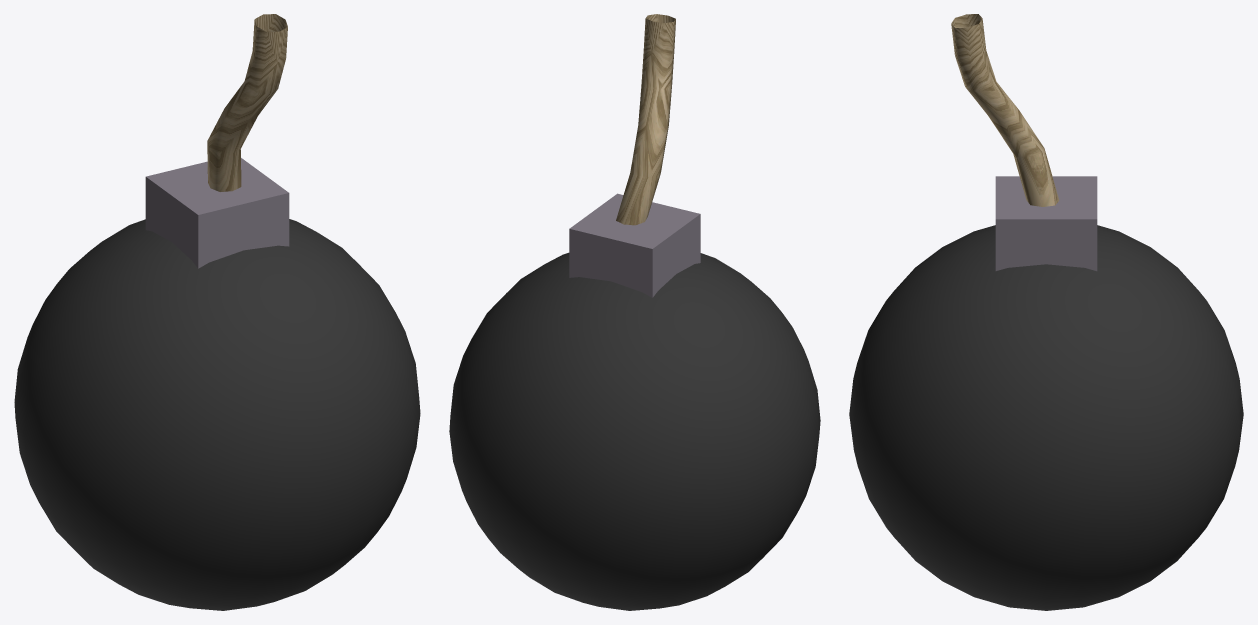
File: BombHandHeld.fbx
The picture shows the model from 3 angles, left to right: view 1: azimuth 30°, elevation 25°; view 2: azimuth 150°, elevation 25°; view 3: azimuth 270°, elevation 25°; orthographic projection. The views are drawn at different scales.
Parts seen in each view (by area): view 1: Bomb (1), Cube, Rope; view 2: Bomb (1), Cube, Rope; view 3: Bomb (1), Cube, Rope.
Part boxes in pixels (left/top/right/bottom): Bomb (1): left=14, top=219, right=420, bottom=610; Cube: left=145, top=158, right=289, bottom=268; Rope: left=207, top=14, right=287, bottom=191; Bomb (1): left=449, top=252, right=820, bottom=610; Cube: left=569, top=193, right=700, bottom=297; Rope: left=616, top=14, right=675, bottom=225; Bomb (1): left=849, top=225, right=1243, bottom=610; Cube: left=995, top=176, right=1097, bottom=271; Rope: left=951, top=14, right=1059, bottom=206.
Bounding box in the file's own units: 1 × 1.62 × 1.
